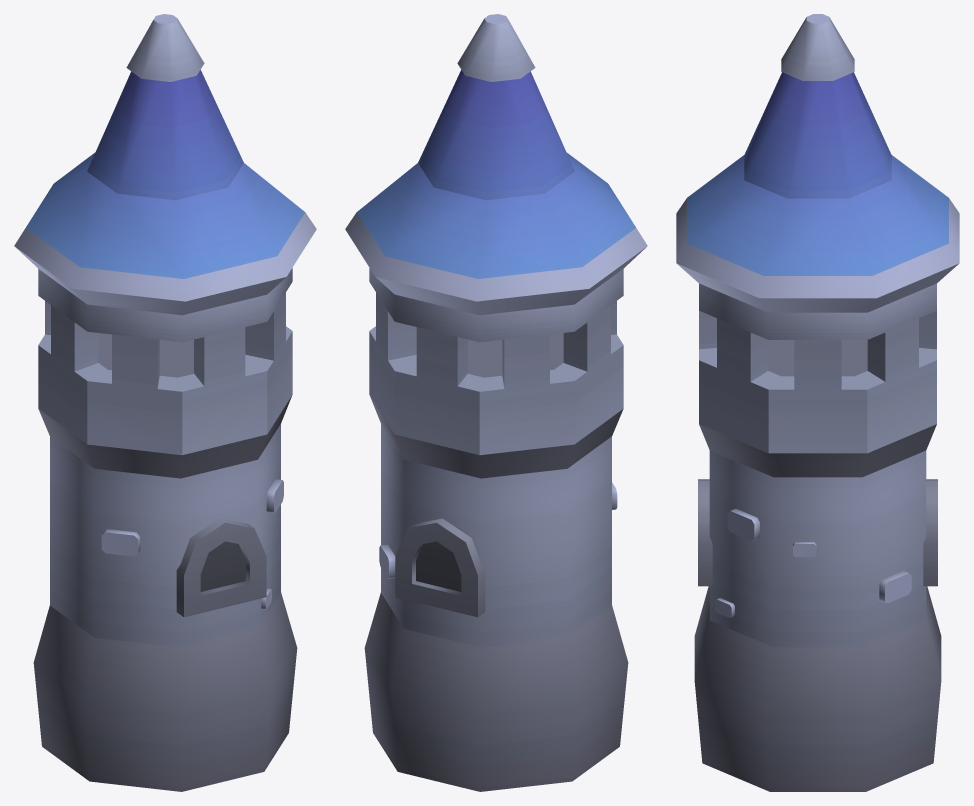
The model's file is tower.glb.
The picture shows the model from 3 angles, left to right: view 1: azimuth 30°, elevation 25°; view 2: azimuth 150°, elevation 25°; view 3: azimuth 270°, elevation 25°; orthographic projection.
Parts seen in each view (by area): view 1: tower-complete-large; view 2: tower-complete-large; view 3: tower-complete-large.
Part boxes in pixels (bbox=[...]): tower-complete-large: bbox=[14, 14, 316, 791]; tower-complete-large: bbox=[345, 14, 647, 791]; tower-complete-large: bbox=[676, 14, 959, 791].
Bounding box in the file's own units: 4.97 × 14 × 4.97.
Materials: 1 (1 with a texture image).
